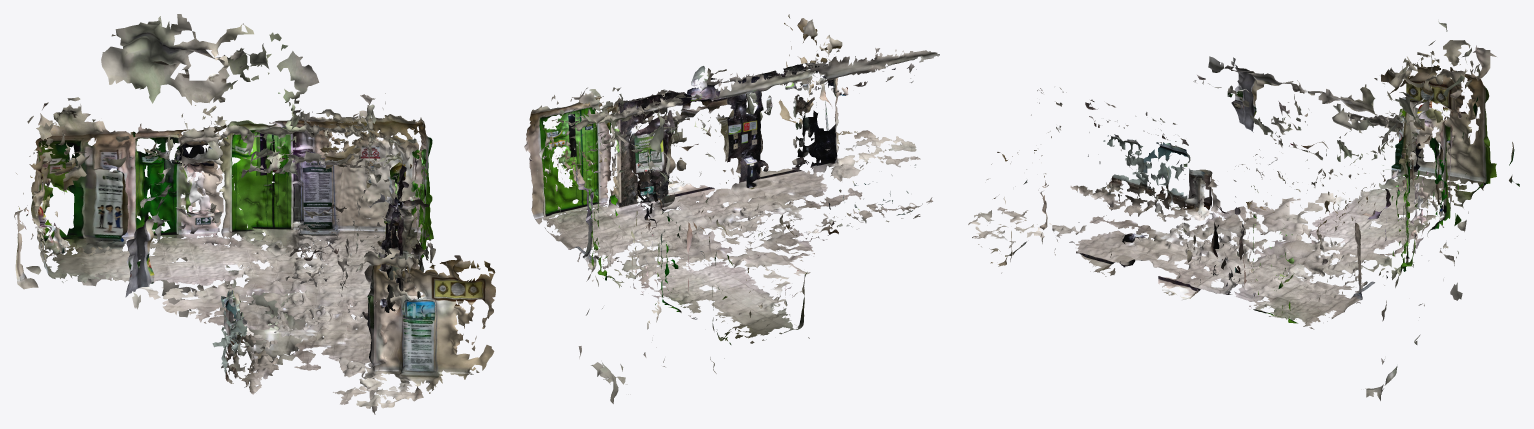
Rendered from 144569-lt4b-tex.glb.
The picture shows the model from 3 angles, left to right: view 1: azimuth 30°, elevation 25°; view 2: azimuth 150°, elevation 25°; view 3: azimuth 270°, elevation 25°; orthographic projection. The views are drawn at different scales.
Visible parts, largest first — view 1: Node; view 2: Node; view 3: Node.
Boxes of the visible parts, x1,y1,x2,y2 form: Node: (14,14,495,414); Node: (524,14,939,403); Node: (968,21,1519,400).
Size of the model in its own units: 8.39 by 8.11 by 11.24.
25 materials, 25 textured.
